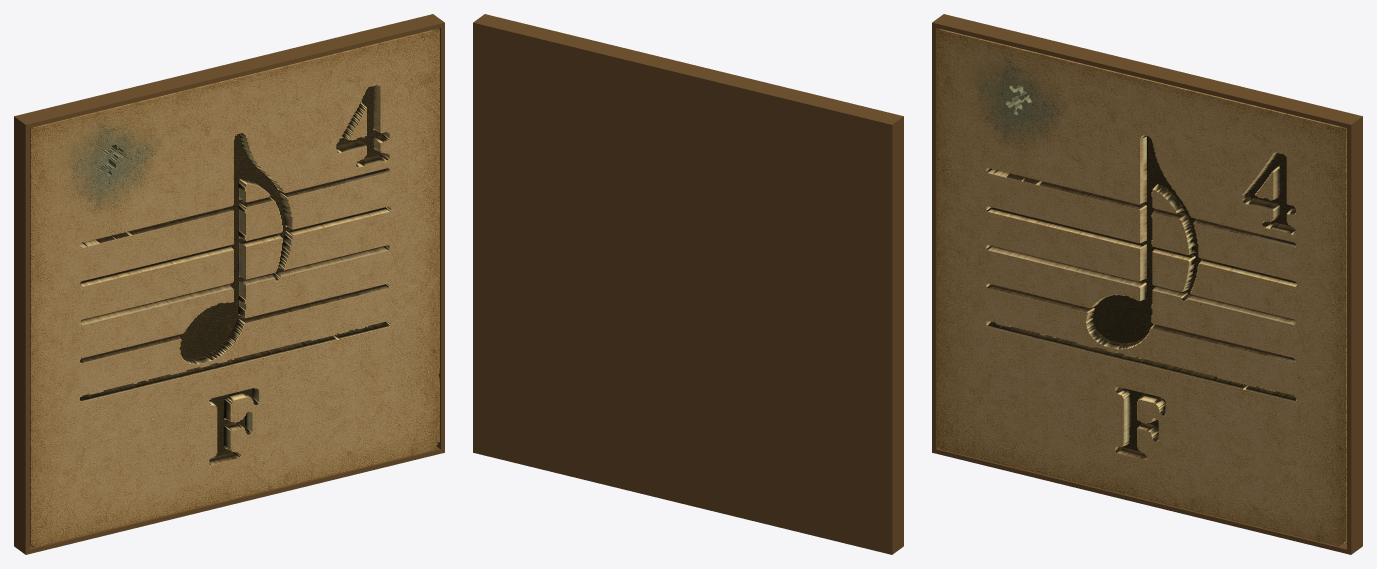
Rendered from note4f.fbx.
The picture shows the model from 3 angles, left to right: view 1: azimuth 30°, elevation 25°; view 2: azimuth 150°, elevation 25°; view 3: azimuth 330°, elevation 25°; orthographic projection.
Visible parts, largest first — view 1: meshes[0]; view 2: meshes[0]; view 3: meshes[0].
Boxes of the visible parts, x1,y1,x2,y2 form: meshes[0]: (14,14,444,554); meshes[0]: (473,14,903,554); meshes[0]: (932,14,1362,554).
Size of the model in its own units: 410 by 402 by 20.
